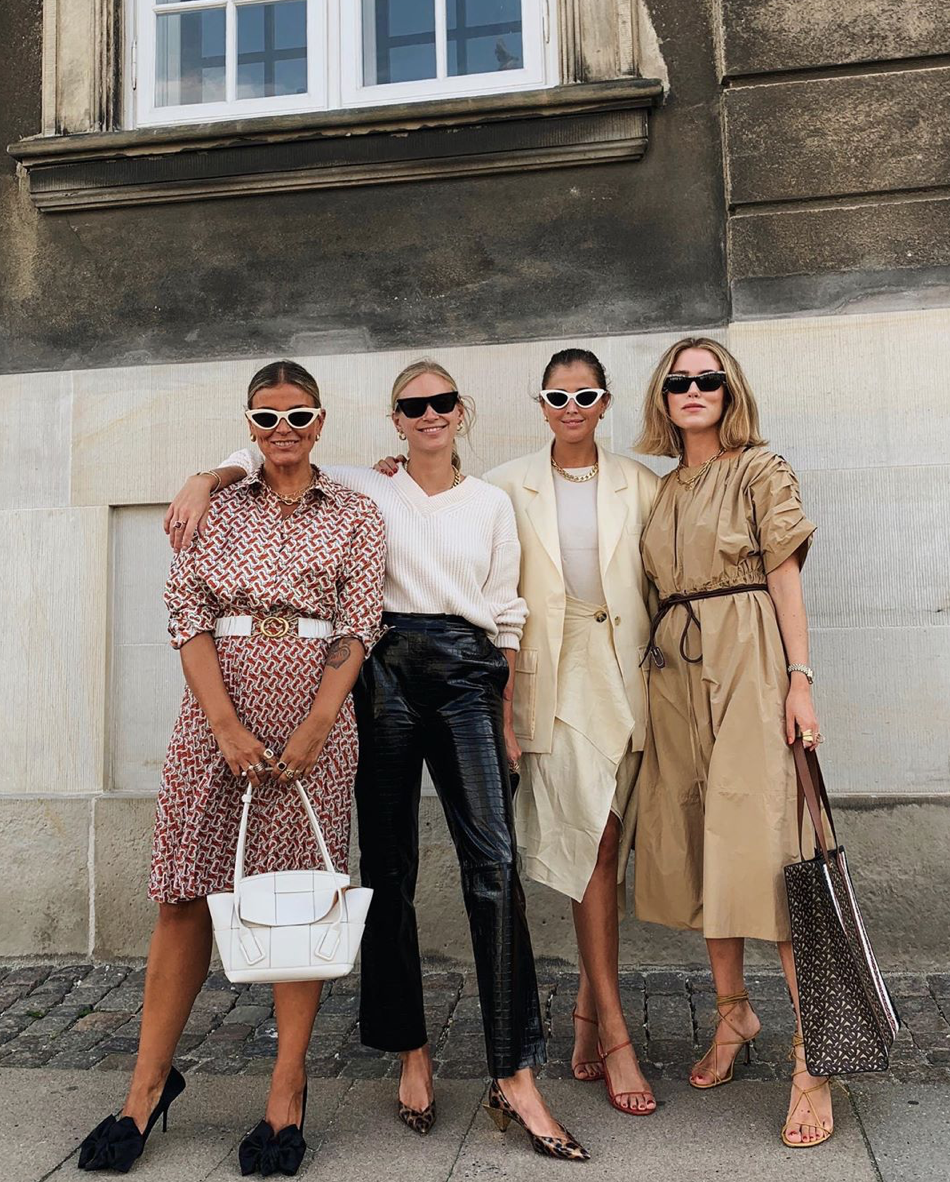Person: (89, 349, 378, 1181), (618, 324, 886, 1131), (343, 316, 591, 1162), (474, 341, 697, 1133)
